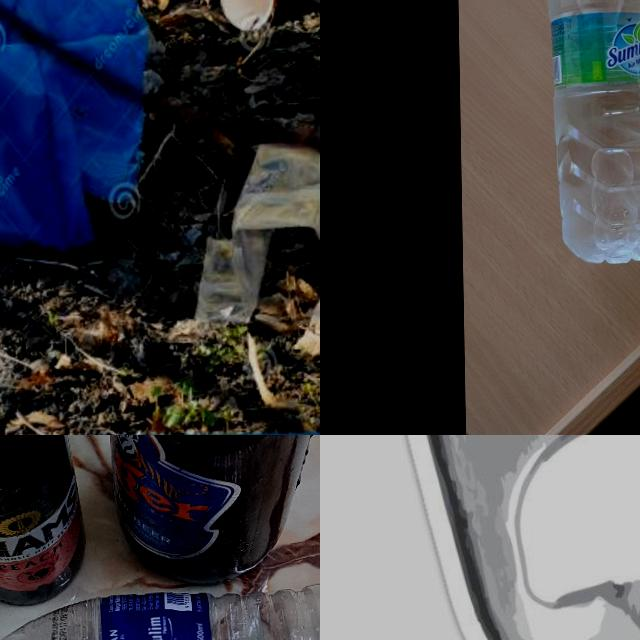aba de lata: (379, 435, 640, 640)
garrafa de vidro: (99, 435, 320, 590), (0, 435, 89, 611)
garrafa plástica: (545, 0, 640, 265), (0, 584, 320, 640)
sacola plástica: (0, 0, 183, 271)
